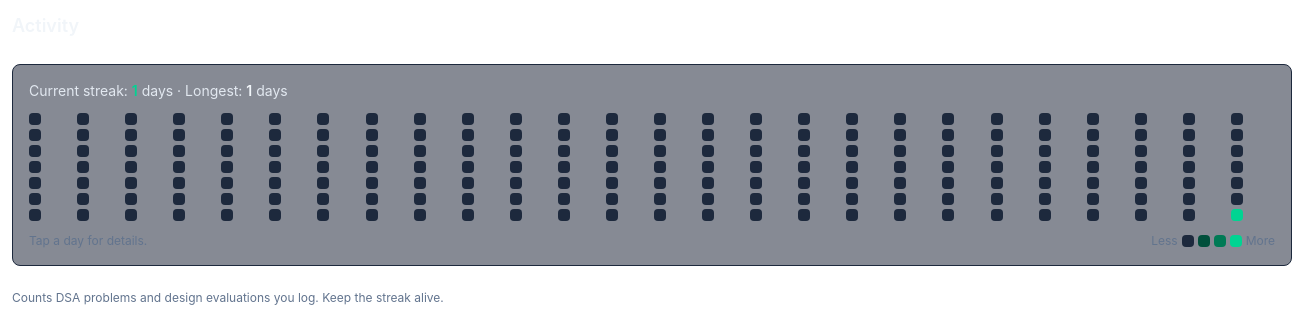
Test: ActivityGraph › shows a day readout when a cell is tapped
The width and height of the screenshot is (1292, 322).
Click the button named "2026-06-15: 3 activities".
click(1237, 215)  # box left=1231, top=209, right=1243, bottom=221
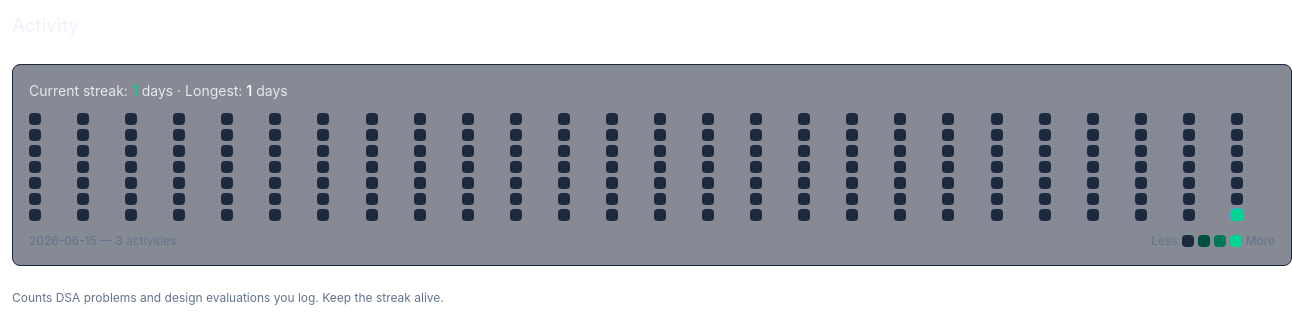
Now the text "2026-06-15 — 3 activities" is shown, box left=29, top=233, right=176, bottom=249
